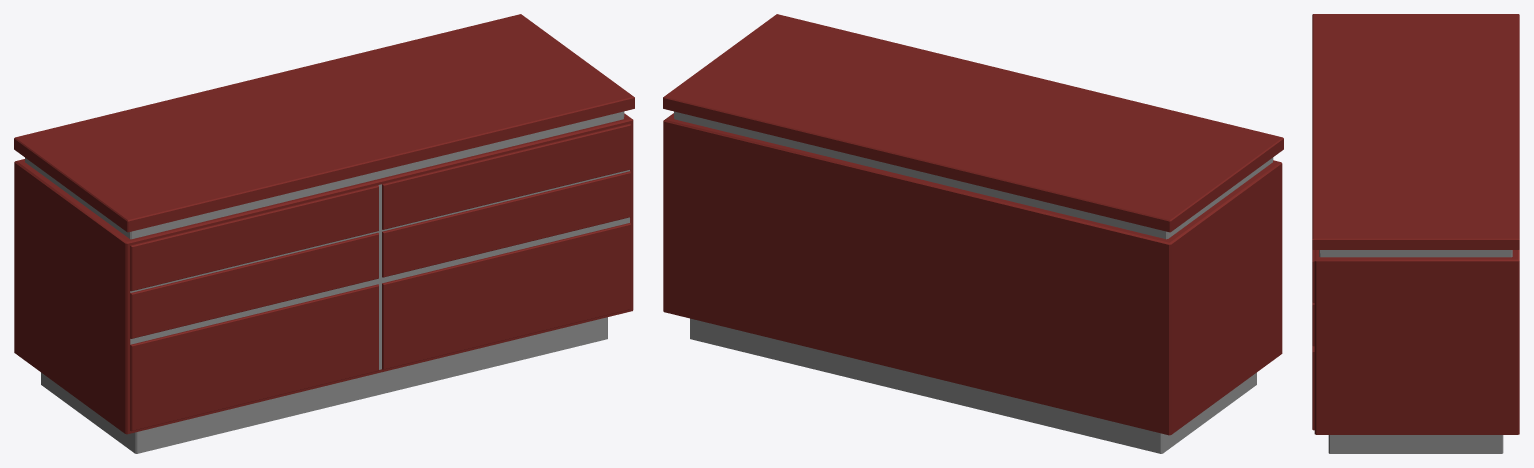
File: chest_of_drawer.FBX
3 views of the same model, side by side, from view 1: azimuth 30°, elevation 25°; view 2: azimuth 150°, elevation 25°; view 3: azimuth 270°, elevation 25° (orthographic). The views are drawn at different scales.
Parts seen in each view (by area): view 1: HZTZTCU0101; view 2: HZTZTCU0101; view 3: HZTZTCU0101.
Boxes of the visible parts, x1=… form: HZTZTCU0101: x1=14, y1=14, x2=634, y2=453; HZTZTCU0101: x1=663, y1=14, x2=1283, y2=453; HZTZTCU0101: x1=1312, y1=14, x2=1519, y2=453.
Size of the model in its own units: 4572 by 2103 by 1778.
